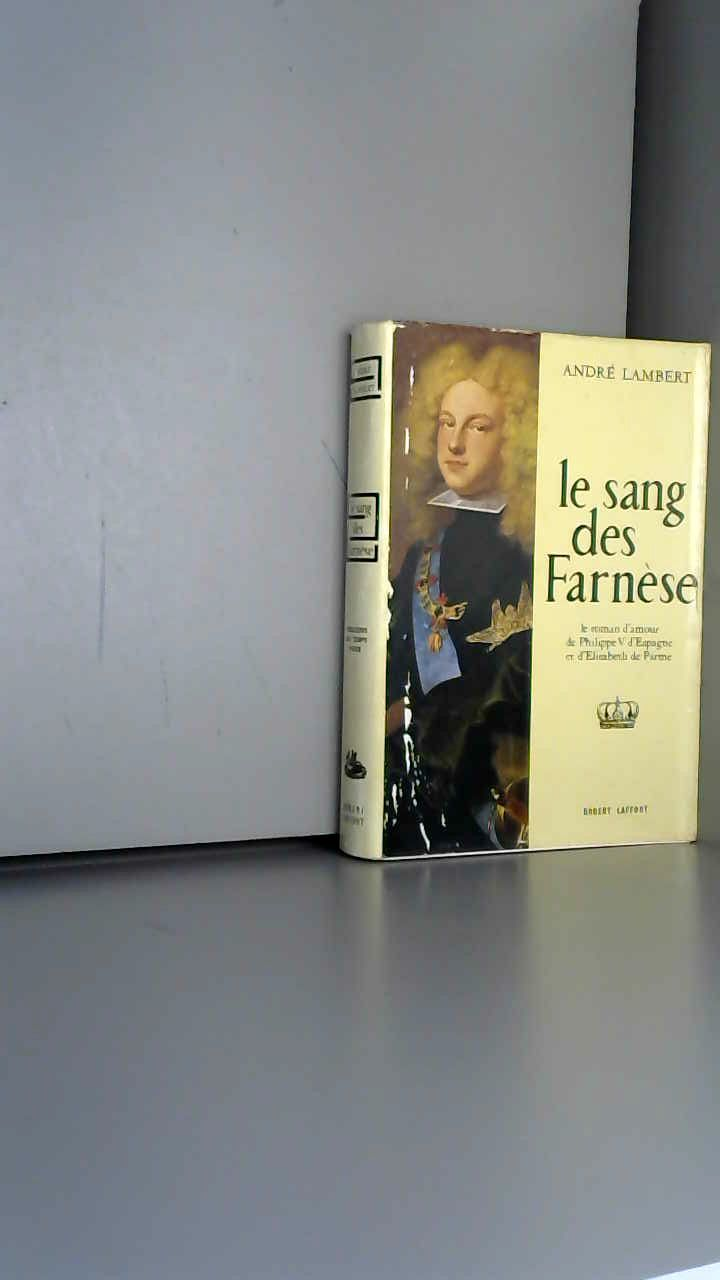book: (310, 290, 720, 874)
